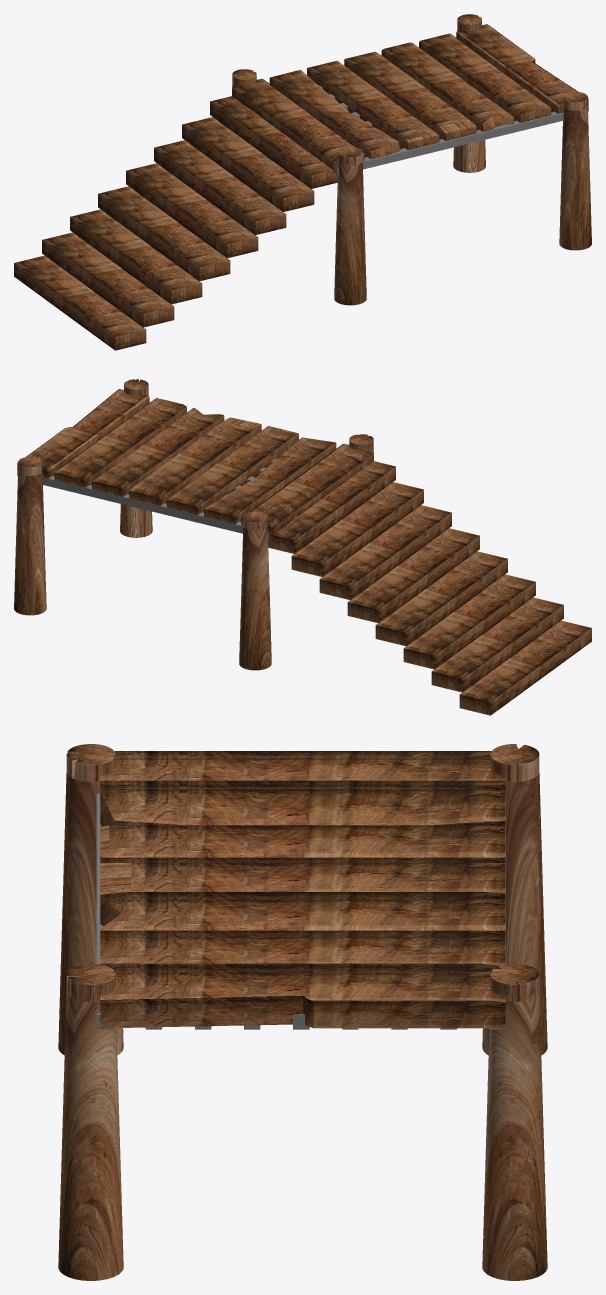
Rendered from pier.glb.
The picture shows the model from 3 angles, top to bottom: view 1: azimuth 30°, elevation 25°; view 2: azimuth 150°, elevation 25°; view 3: azimuth 270°, elevation 25°; orthographic projection. The views are drawn at different scales.
Visible parts, largest first — view 1: Escaleras_1, Muelle_2, Barillas_0; view 2: Escaleras_1, Muelle_2, Barillas_0; view 3: Muelle_2, Escaleras_1, Barillas_0.
Part boxes in pixels (x1,y1,x2,y2): Escaleras_1: [14, 96, 337, 350]; Muelle_2: [232, 14, 591, 305]; Barillas_0: [318, 85, 563, 175]; Escaleras_1: [268, 461, 591, 715]; Muelle_2: [14, 379, 373, 670]; Barillas_0: [42, 450, 286, 539]; Muelle_2: [58, 744, 547, 1280]; Escaleras_1: [114, 751, 491, 758]; Barillas_0: [96, 793, 505, 1029].
Bounding box in the file's own units: 16.14 × 4.8 × 7.22.
Materials: 2 (1 with a texture image).
